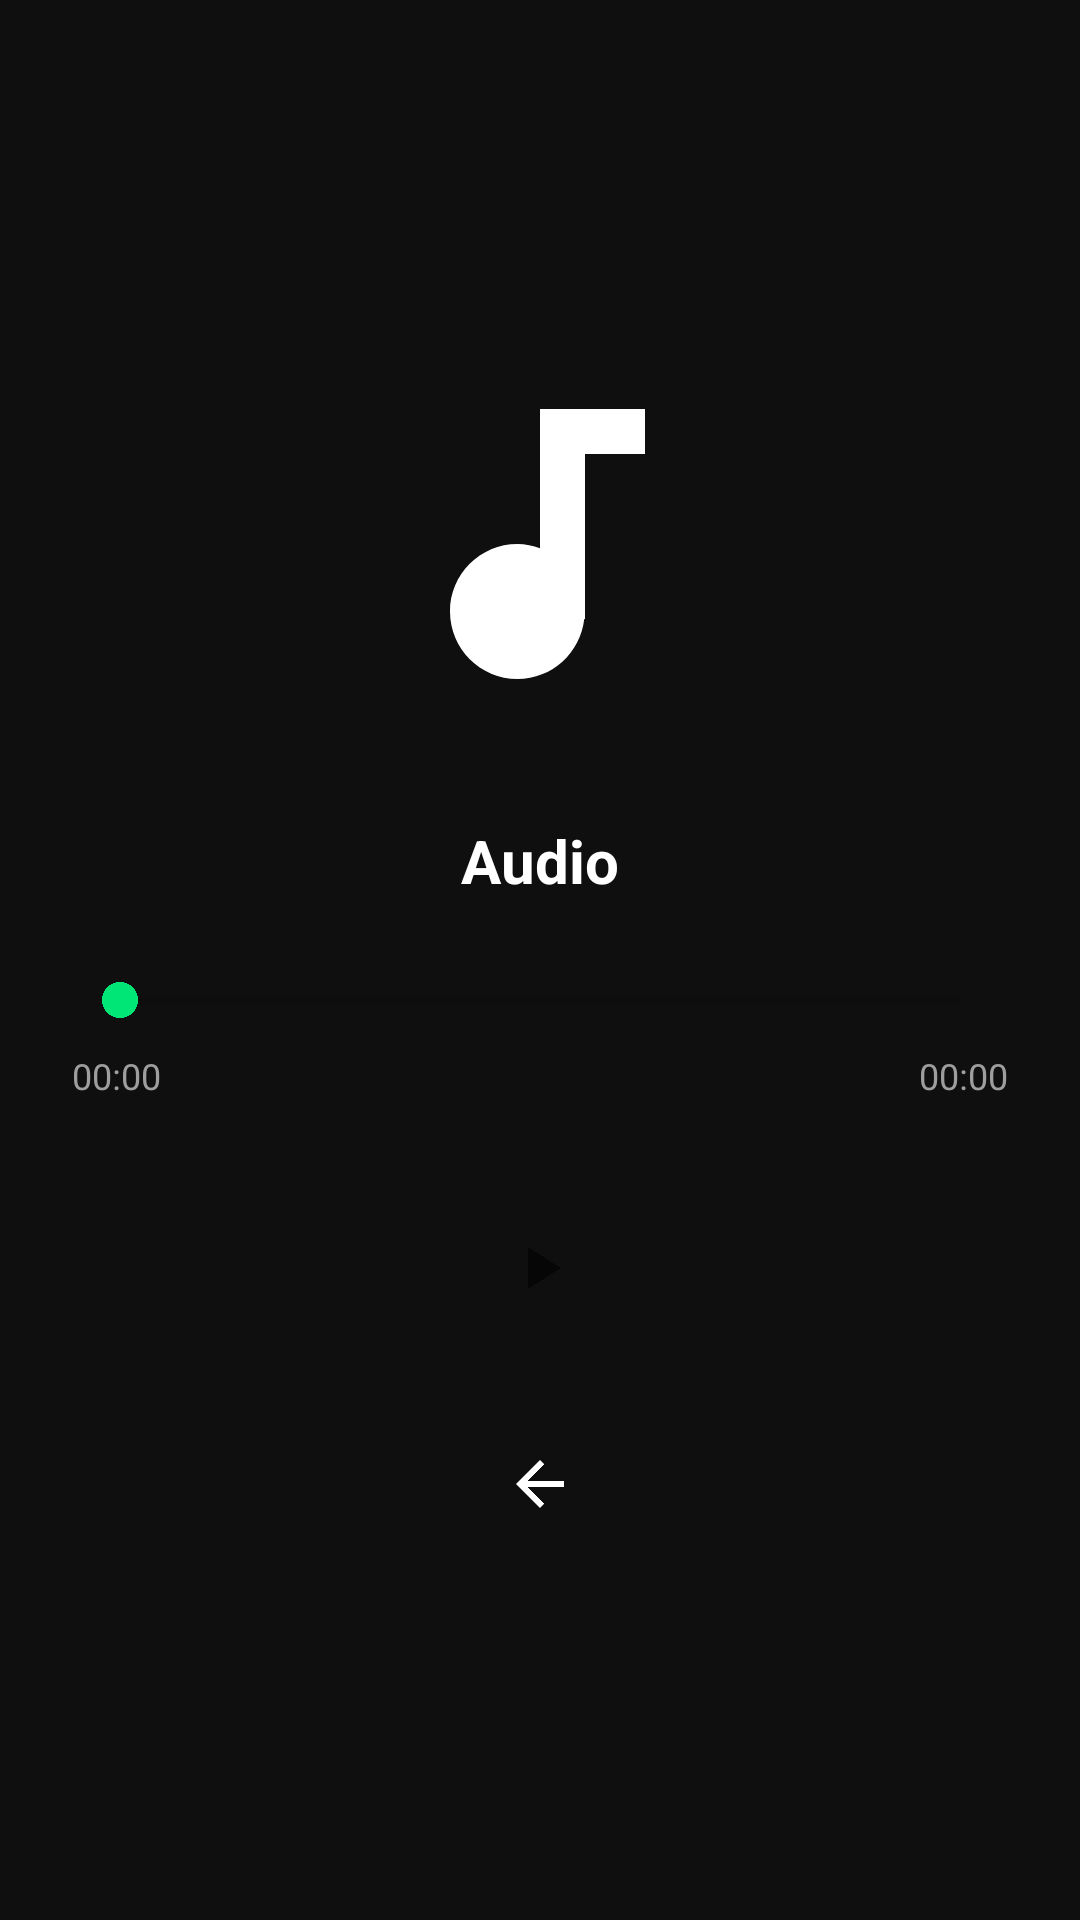

Icons on this 1080×1920 Android screen, each with the point to tap as point (x, y):
Back: point (540, 1484)
